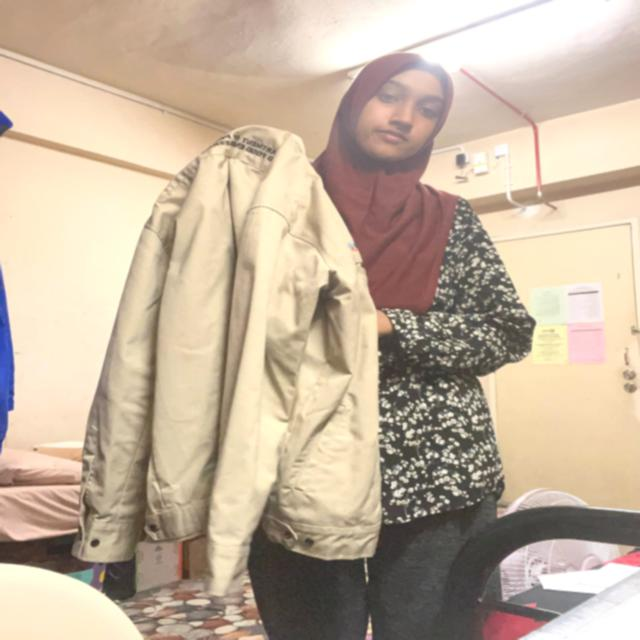person_without_labcoat: (78, 53, 534, 640)
